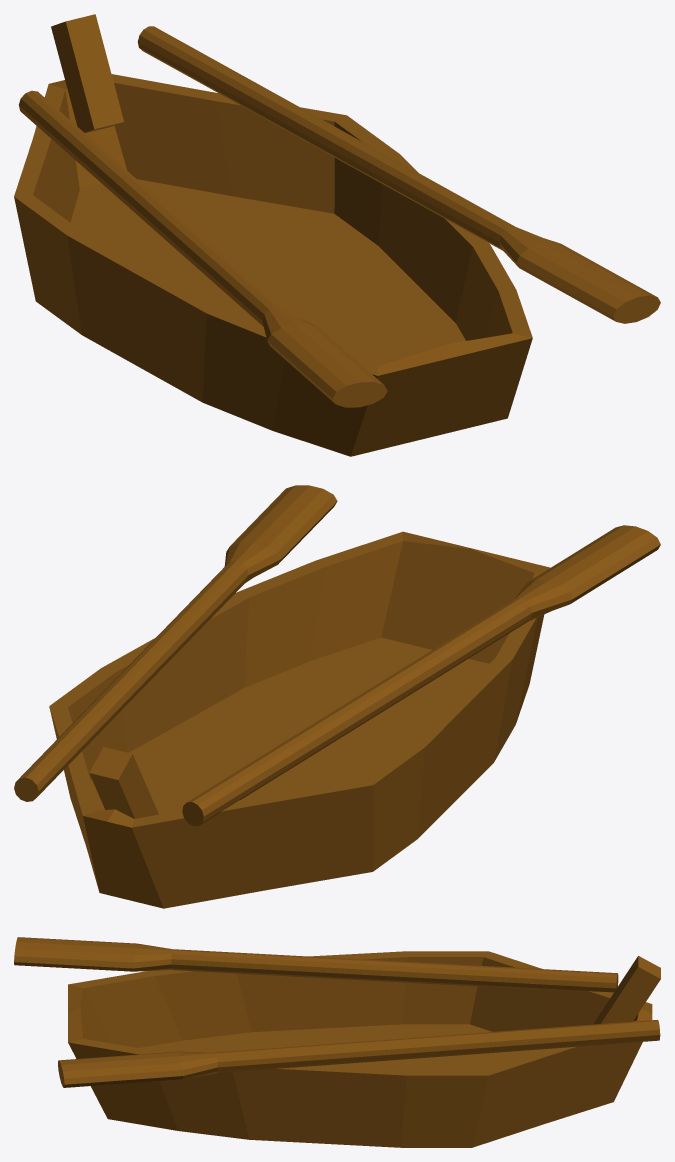
Rendered from boat_2.fbx.
3 renders of one model, top to bottom at view 1: azimuth 30°, elevation 25°; view 2: azimuth 150°, elevation 25°; view 3: azimuth 270°, elevation 25°, orthographic. The views are drawn at different scales.
Visible parts, largest first — view 1: Plane, Cylinder, Cylinder.001, Cube; view 2: Plane, Cylinder.001, Cylinder, Cube; view 3: Plane, Cylinder.001, Cylinder, Cube.
Boxes of the visible parts, box(x1,y1,x2,y2) form: Plane: box(14, 74, 532, 456); Cylinder: box(137, 26, 660, 323); Cylinder.001: box(19, 90, 387, 407); Cube: box(51, 14, 123, 132); Plane: box(49, 531, 550, 908); Cylinder.001: box(182, 525, 660, 826); Cylinder: box(14, 485, 337, 801); Cube: box(89, 747, 158, 818); Plane: box(68, 951, 652, 1147); Cylinder.001: box(14, 937, 618, 992); Cylinder: box(58, 1020, 660, 1087); Cube: box(594, 956, 660, 1024).
Size of the model in its own units: 238 by 102 by 471.
